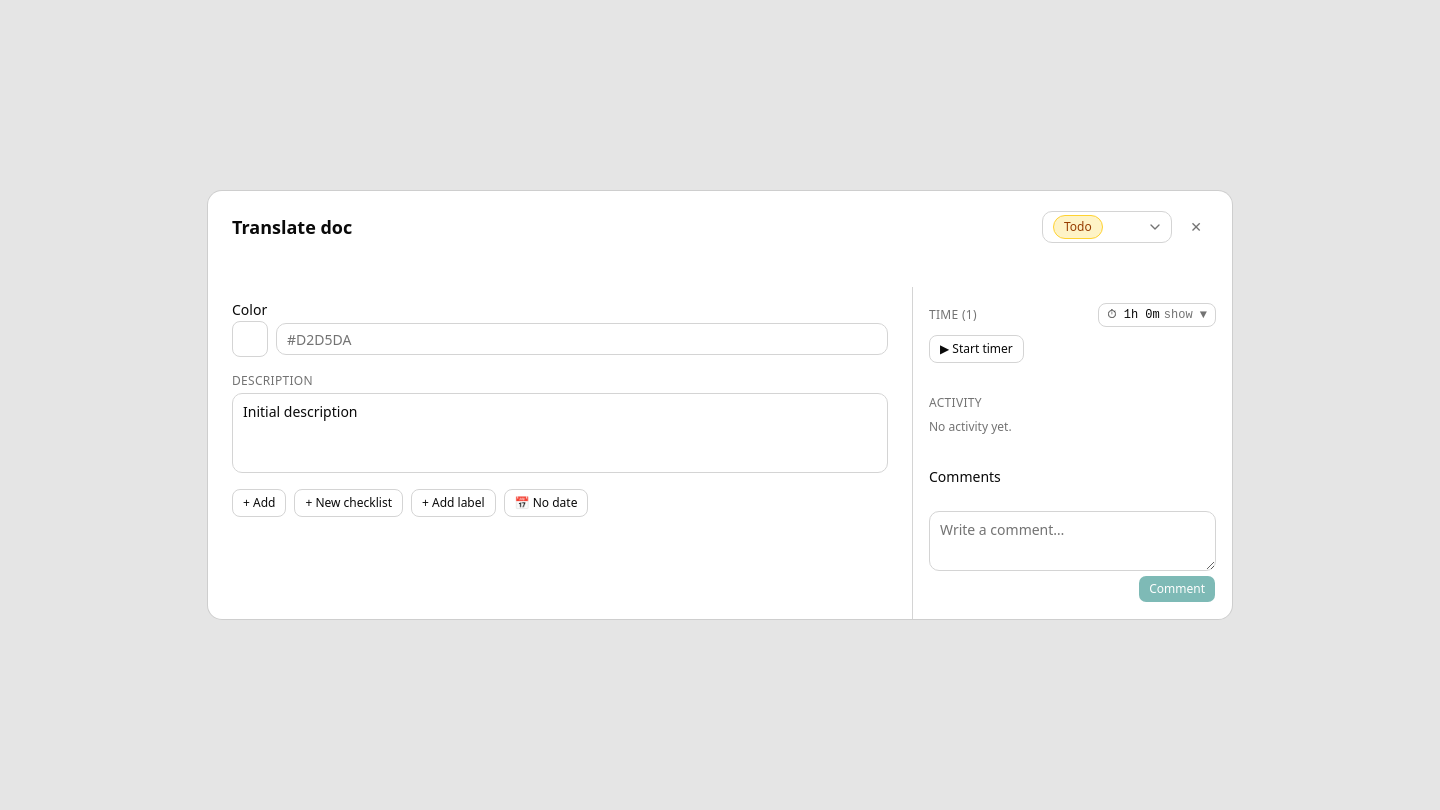
TaskDetailModal › shows entry count in the Time label and renders entries once toggled open
Expected: the heading "Translate doc" is shown, 232,213 -> 352,241
Expected: the text "Time (1)" is shown, 929,307 -> 977,323
Click the text "show ▼" at (1185,315), box 1164,307 -> 1207,323
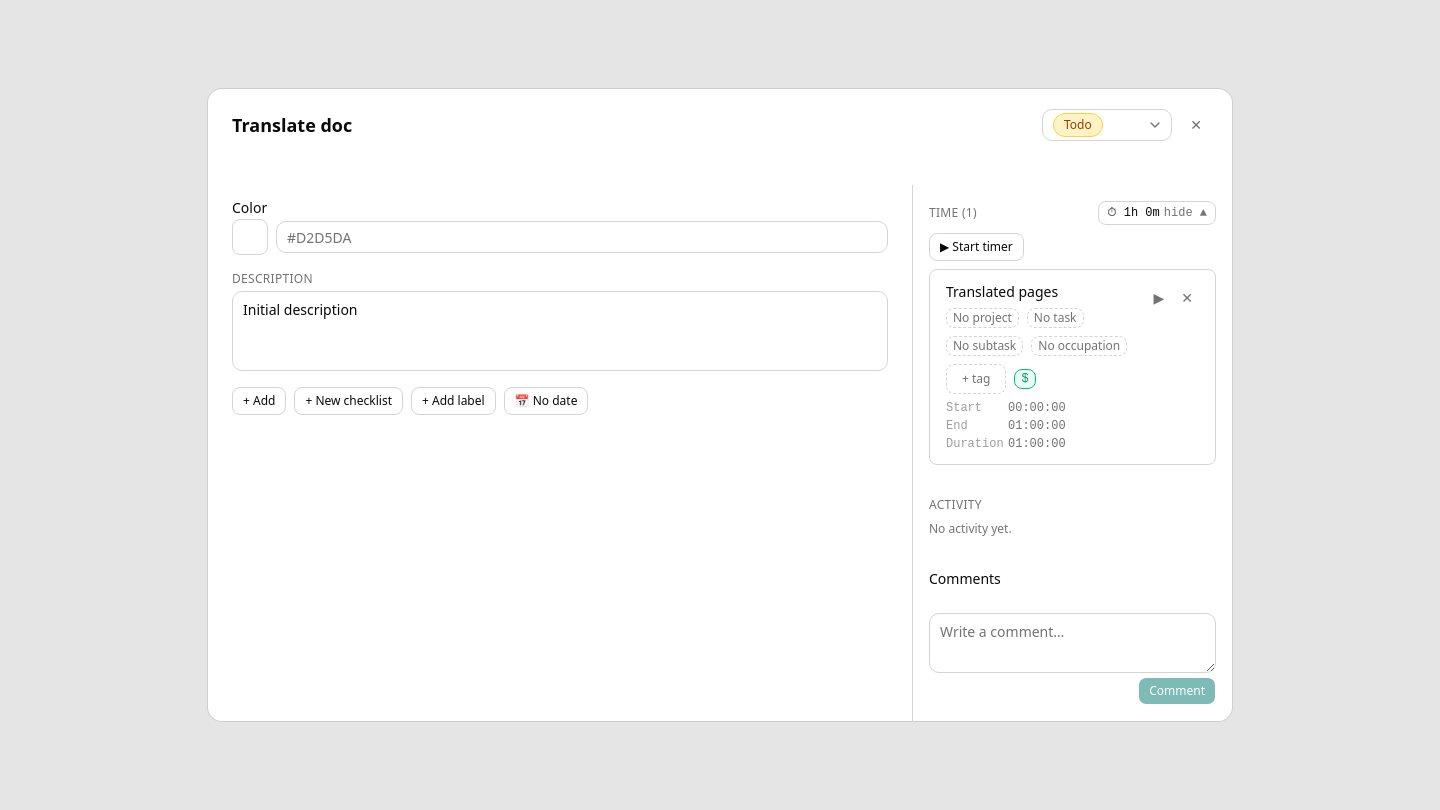
Result: the text "Translated pages" is shown at 946,282 -> 1058,301
